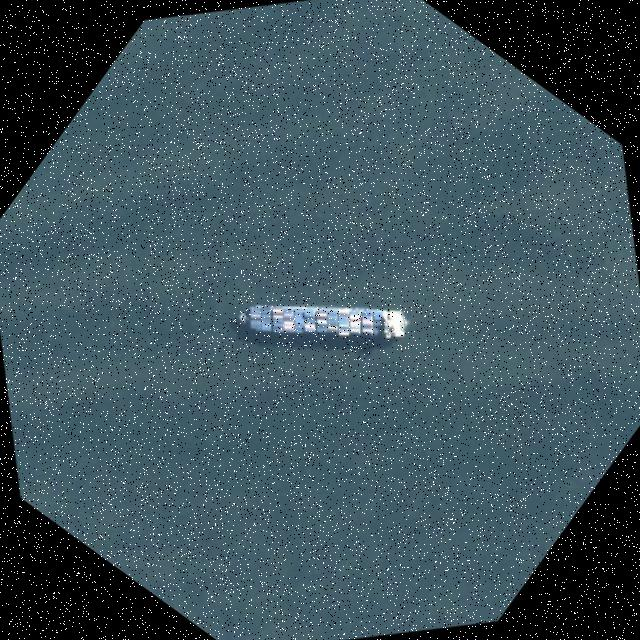ship: (238, 303, 408, 345)
